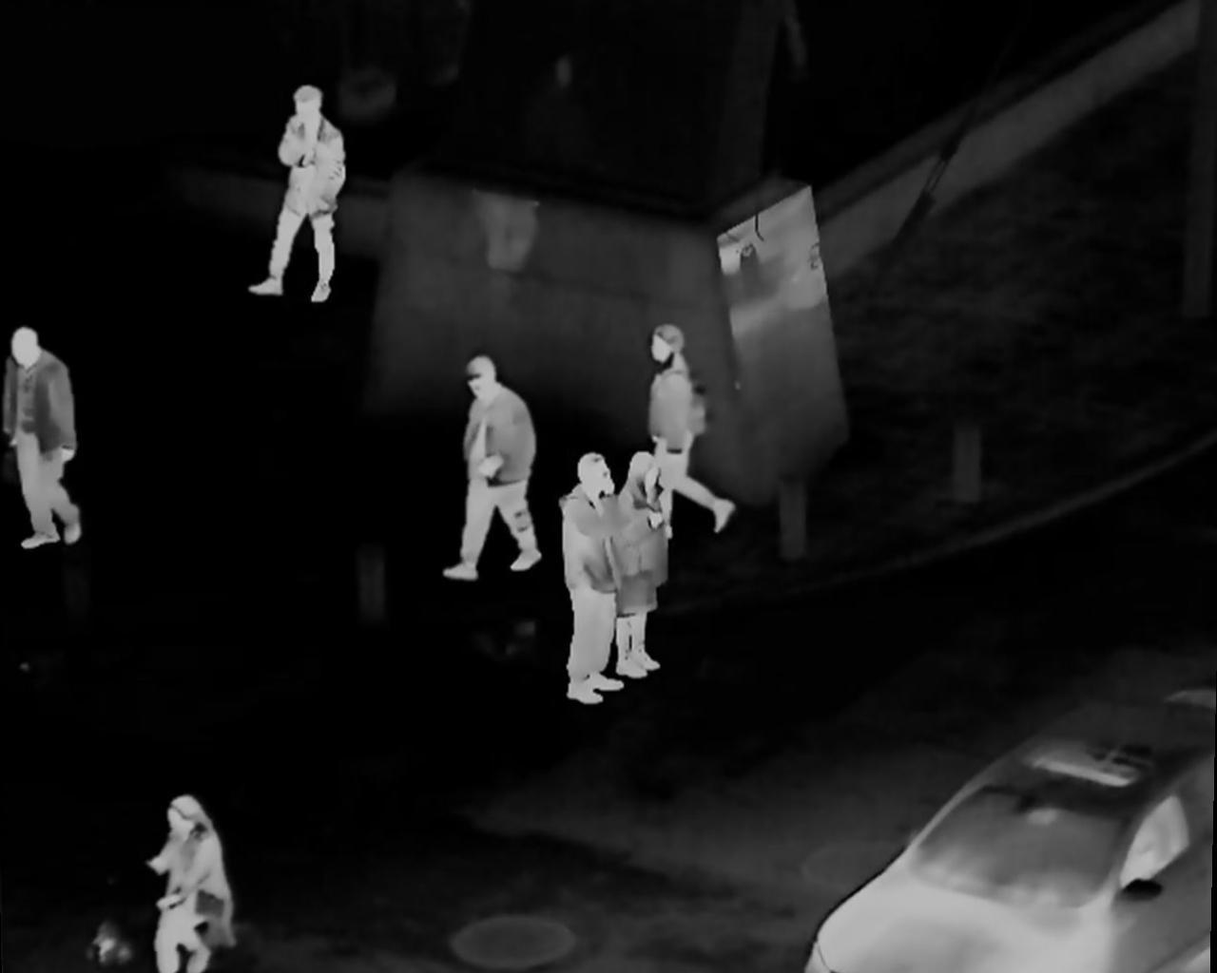person: (249, 87, 343, 320), (448, 357, 538, 589), (639, 319, 731, 538), (4, 322, 89, 549), (558, 448, 627, 722), (143, 789, 243, 967), (612, 447, 653, 677)
